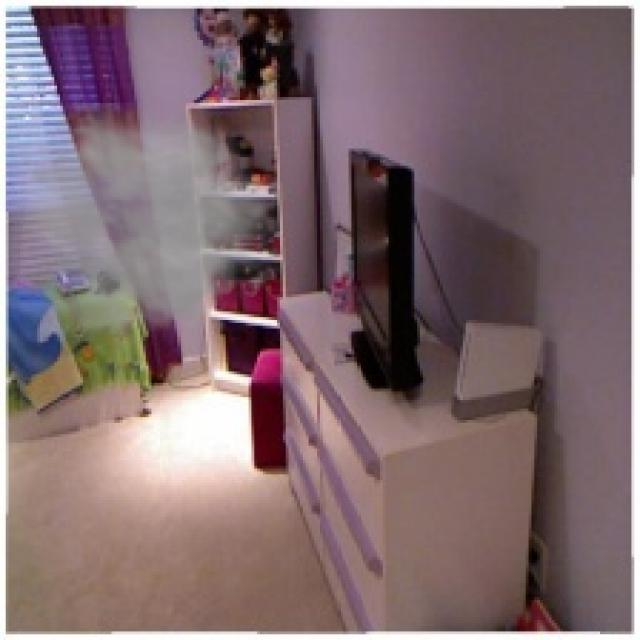smoke: (12, 103, 294, 354)
